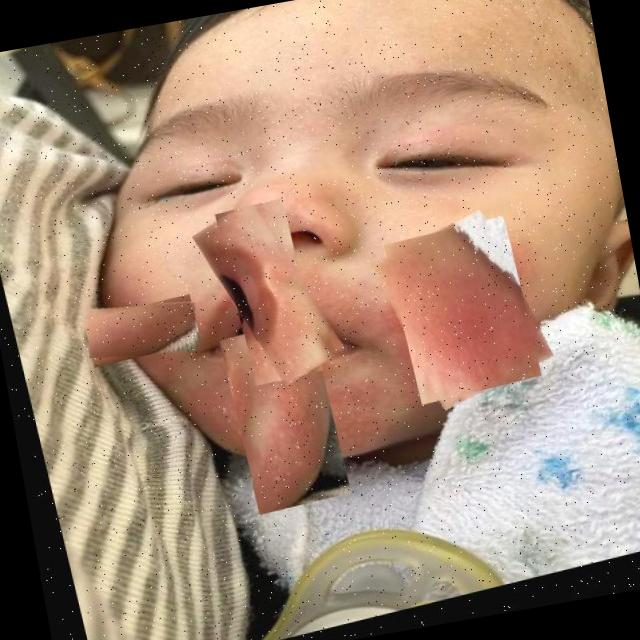redness: (377, 253, 542, 395), (200, 222, 299, 381), (245, 328, 316, 517), (85, 306, 192, 360)
